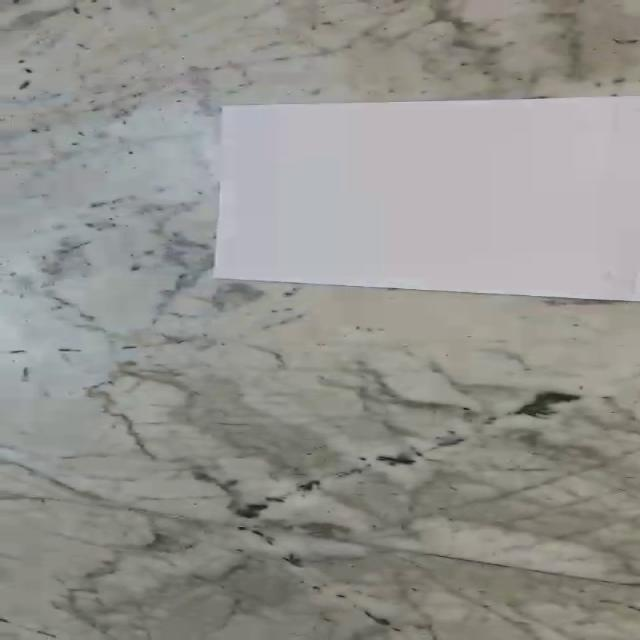road: (215, 96, 640, 303)
